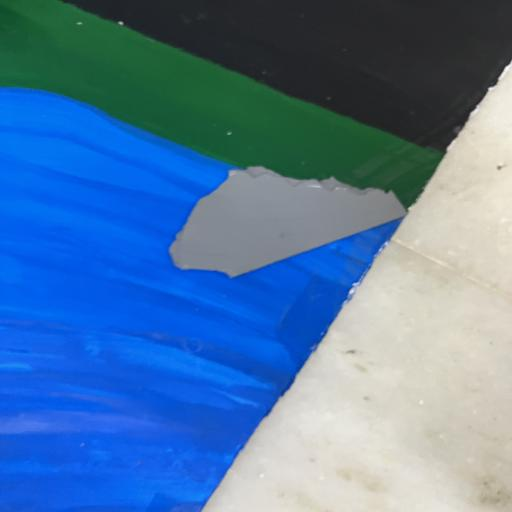encroachment: (165, 166, 410, 280)
